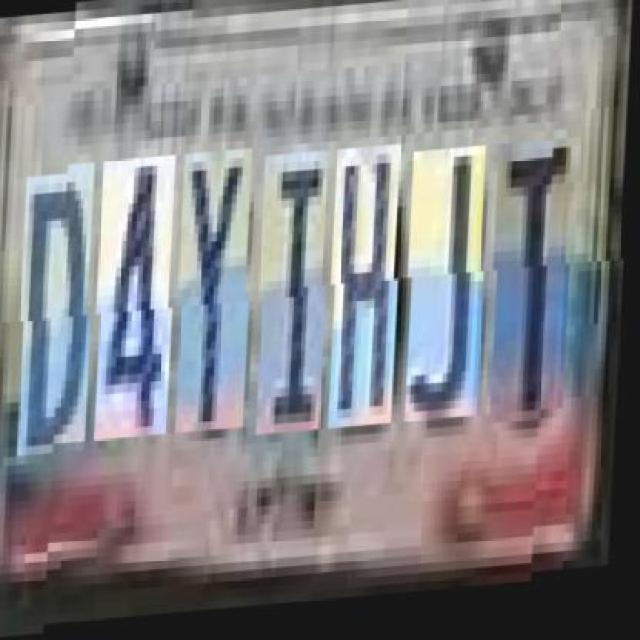4: (100, 159, 182, 443)
d: (22, 165, 102, 448)
h: (333, 151, 407, 435)
i: (260, 156, 334, 441)
j: (410, 154, 492, 431)
t: (494, 149, 578, 433)
y: (179, 153, 259, 438)
